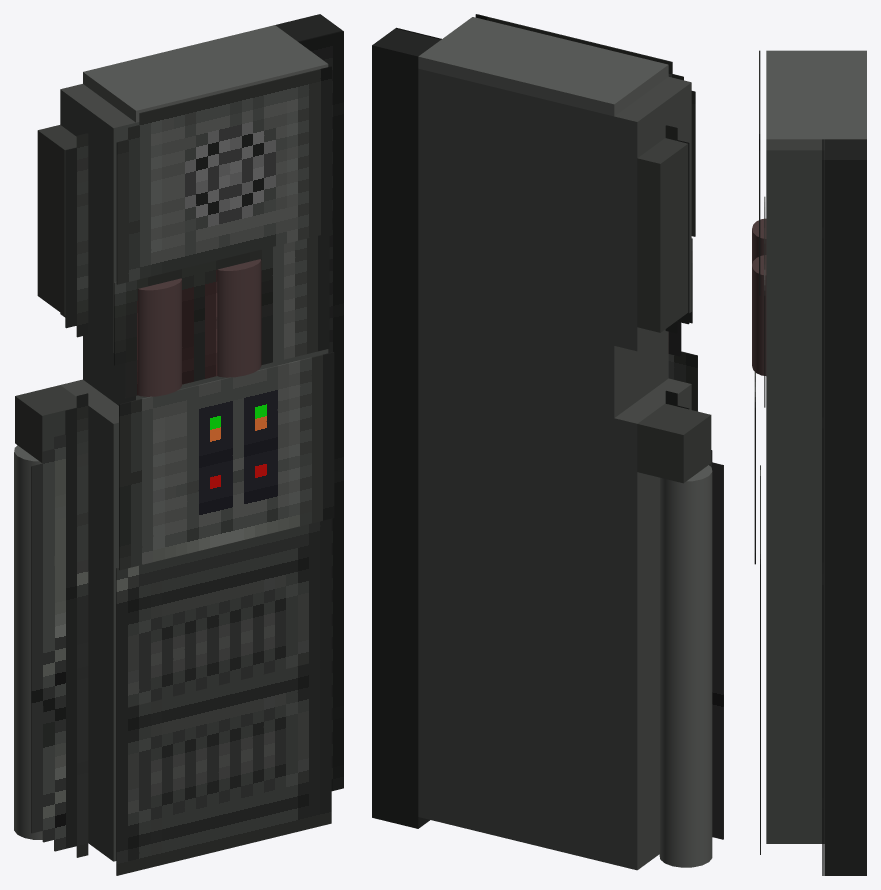
The model's file is CMU3DRMCMachinePropBig13FlippedWest.glb.
The picture shows the model from 3 angles, left to right: view 1: azimuth 30°, elevation 25°; view 2: azimuth 150°, elevation 25°; view 3: azimuth 270°, elevation 25°; orthographic projection. The views are drawn at different scales.
Visible parts, largest first — view 1: animated paired control bank, bottom grille, upper perforated vent, upper lower-case grille, source side-depth details, paired copper cartridge backing, lower cabinet below side notch, cast top shoulder, rear mounting spine artwork, copper vertical cartridge (×2), upper cabinet above side notch, exposed side conduit (+4 smaller); view 2: lower cabinet below side notch, upper cabinet above side notch, dark rear mounting spine, exposed side conduit, narrowed mid-case at source notch, cast top shoulder, short upper side shoulder, source side-depth details, small lower side shoulder, upper perforated vent, animated paired control bank; view 3: dark rear mounting spine, lower cabinet below side notch, upper cabinet above side notch, cast top shoulder, narrowed mid-case at source notch, copper vertical cartridge (×2), rear mounting spine artwork, upper perforated vent, paired copper cartridge backing, animated paired control bank.
Part boxes in pixels (left/top/right/bottom): animated paired control bank: left=119, top=352, right=334, bottom=570; bottom grille: left=116, top=658, right=331, bottom=875; upper perforated vent: left=116, top=66, right=331, bottom=284; upper lower-case grille: left=116, top=518, right=331, bottom=710; source side-depth details: left=31, top=133, right=88, bottom=857; paired copper cartridge backing: left=114, top=233, right=329, bottom=398; lower cabinet below side notch: left=60, top=379, right=118, bottom=861; cast top shoulder: left=83, top=25, right=328, bottom=122; rear mounting spine artwork: left=298, top=31, right=343, bottom=791; copper vertical cartridge (×2): left=138, top=259, right=261, bottom=396; upper cabinet above side notch: left=60, top=84, right=139, bottom=352; exposed side conduit: left=14, top=445, right=42, bottom=839; lower cabinet below side notch: left=418, top=370, right=691, bottom=870; upper cabinet above side notch: left=418, top=68, right=691, bottom=351; dark rear mounting spine: left=372, top=28, right=440, bottom=828; exposed side conduit: left=659, top=465, right=712, bottom=867; narrowed mid-case at source notch: left=418, top=298, right=668, bottom=417; cast top shoulder: left=418, top=17, right=668, bottom=116; short upper side shoulder: left=637, top=138, right=688, bottom=332; source side-depth details: left=665, top=125, right=723, bottom=839; small lower side shoulder: left=637, top=403, right=711, bottom=483; upper perforated vent: left=475, top=14, right=695, bottom=236; animated paired control bank: left=668, top=351, right=697, bottom=411; dark rear mounting spine: left=824, top=139, right=866, bottom=875; lower cabinet below side notch: left=766, top=430, right=824, bottom=843; upper cabinet above side notch: left=766, top=150, right=824, bottom=362; cast top shoulder: left=766, top=50, right=866, bottom=150; narrowed mid-case at source notch: left=766, top=363, right=824, bottom=429; copper vertical cartridge (×2): left=752, top=218, right=766, bottom=375; rear mounting spine artwork: left=822, top=139, right=823, bottom=875; upper perforated vent: left=759, top=50, right=760, bottom=295; paired copper cartridge backing: left=764, top=196, right=765, bottom=407; animated paired control bank: left=754, top=372, right=755, bottom=564.
Size of what is drawn, in the model's own units: 0.875 by 2 by 0.291.
Materials: 12 (7 with a texture image).
